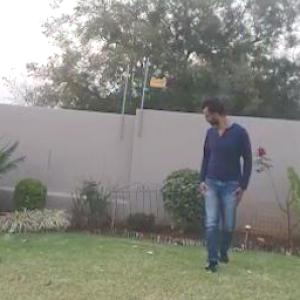follow: (195, 81, 256, 286)
